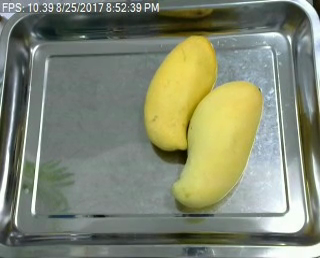Mango: (170, 76, 264, 208), (144, 34, 217, 150)
